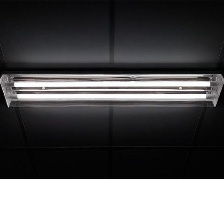light_bulb: (5, 89, 222, 105), (1, 75, 220, 90)
